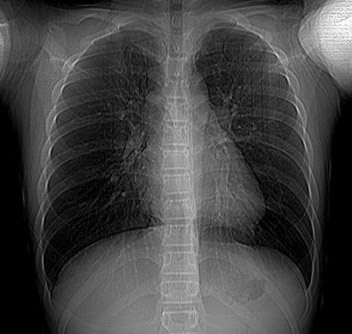Mildw: (37, 23, 165, 292), (198, 27, 312, 281)
